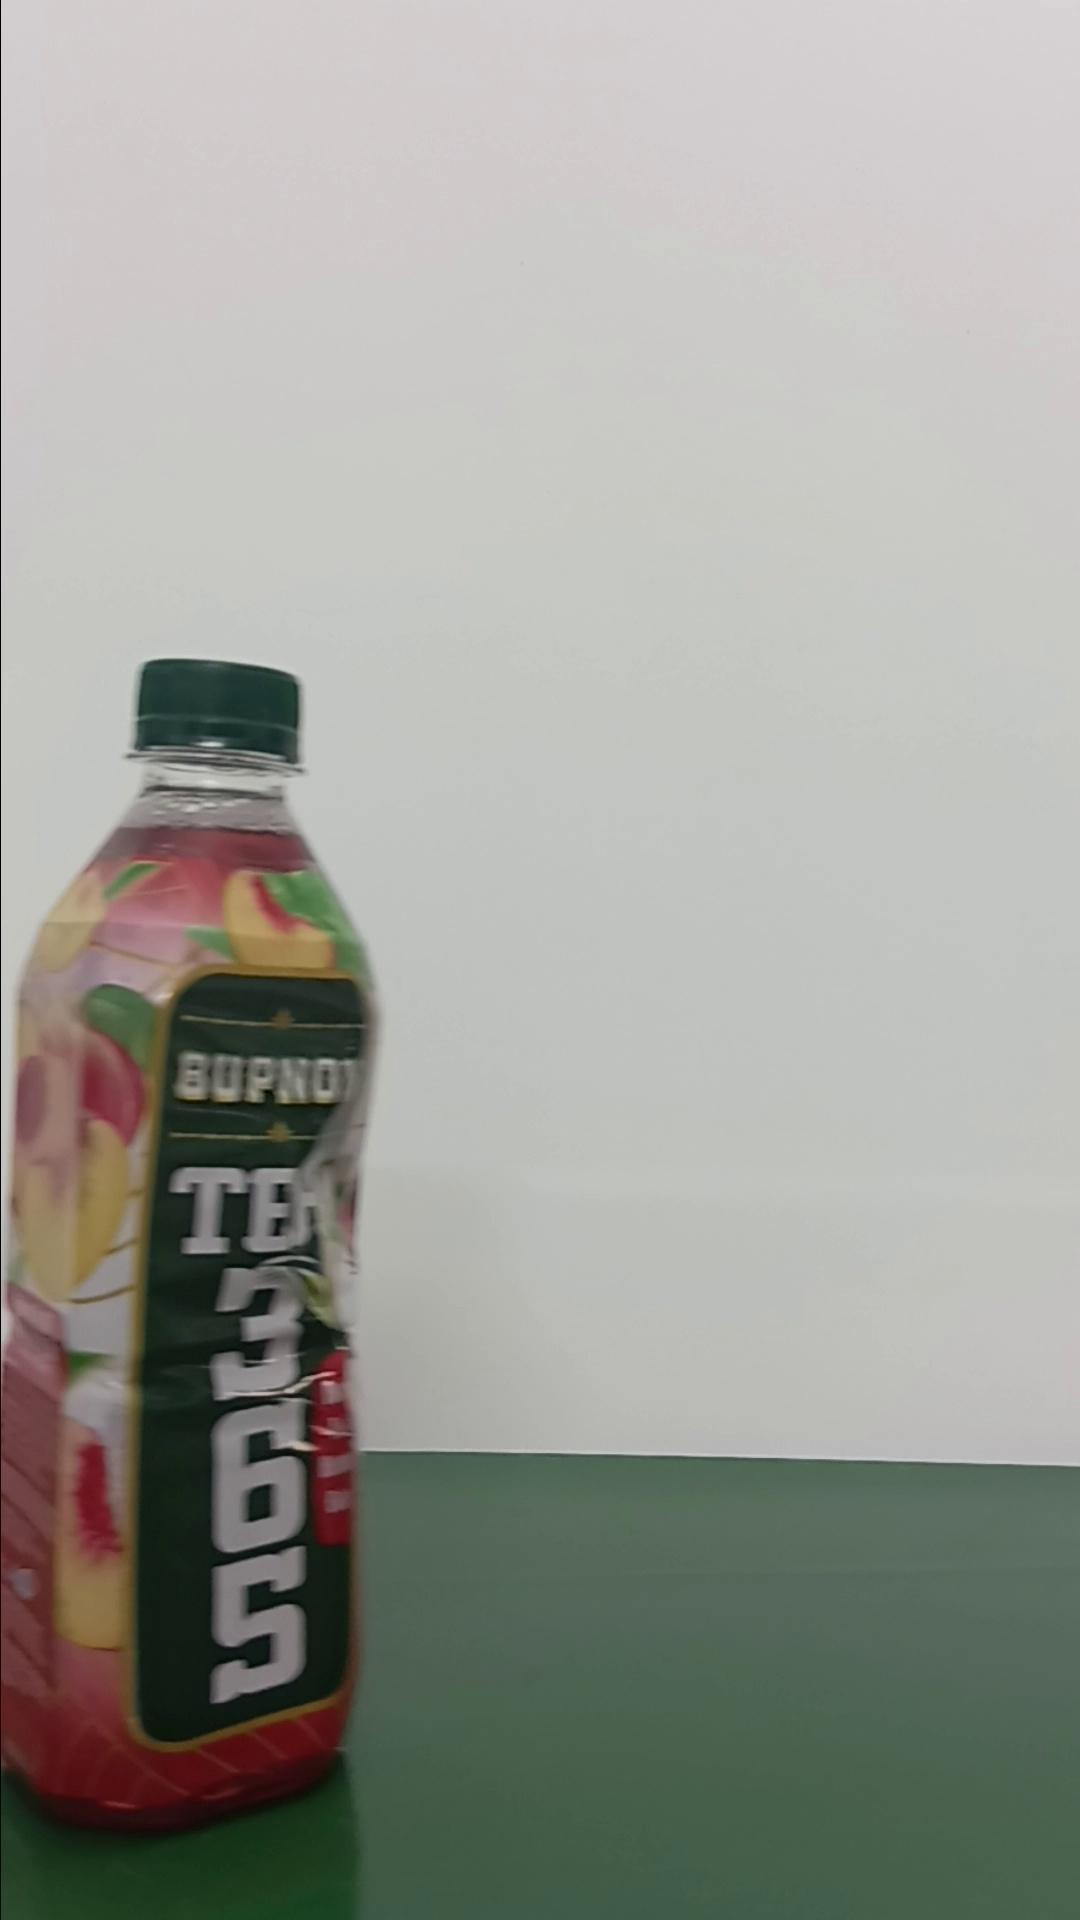loi meo sp: (3, 654, 382, 1833)
